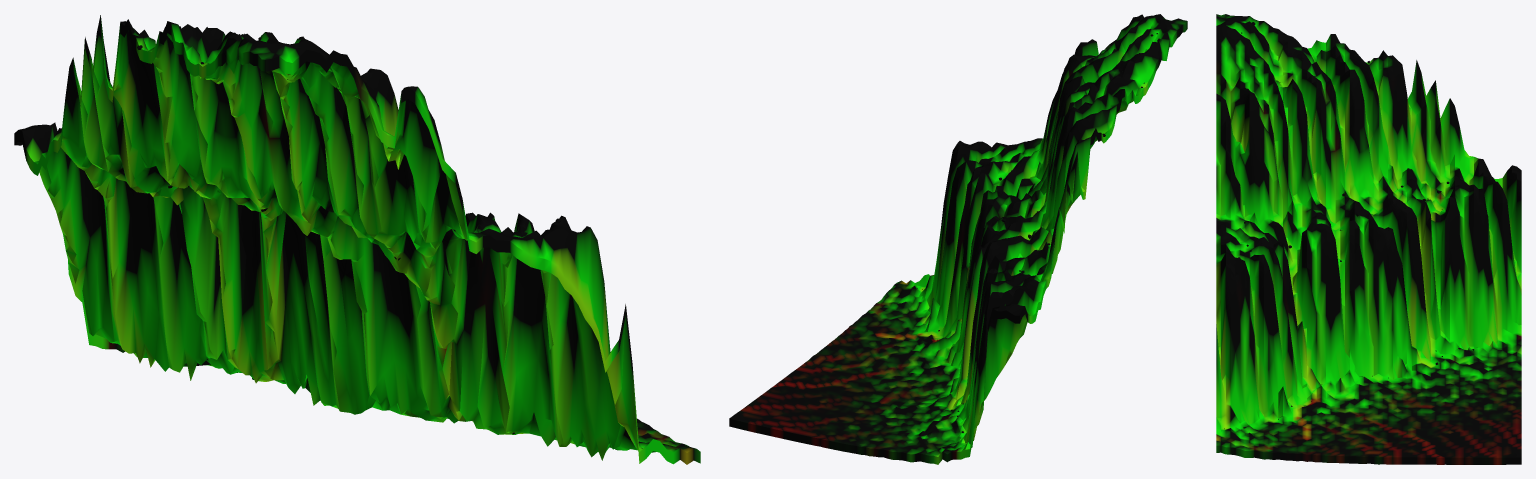
Rendered from Terrain_05_06.fbx.
3 renders of one model, left to right at view 1: azimuth 30°, elevation 25°; view 2: azimuth 150°, elevation 25°; view 3: azimuth 270°, elevation 25°, orthographic. The views are drawn at different scales.
Parts seen in each view (by area): view 1: Terrain_05_06_LOD0; view 2: Terrain_05_06_LOD0; view 3: Terrain_05_06_LOD0.
Boxes of the visible parts, bbox=[...] form: Terrain_05_06_LOD0: bbox=[14, 15, 700, 464]; Terrain_05_06_LOD0: bbox=[729, 14, 1187, 464]; Terrain_05_06_LOD0: bbox=[1216, 14, 1521, 464].
Size of what is drawn, in the model's own units: 386 by 449 by 384.
